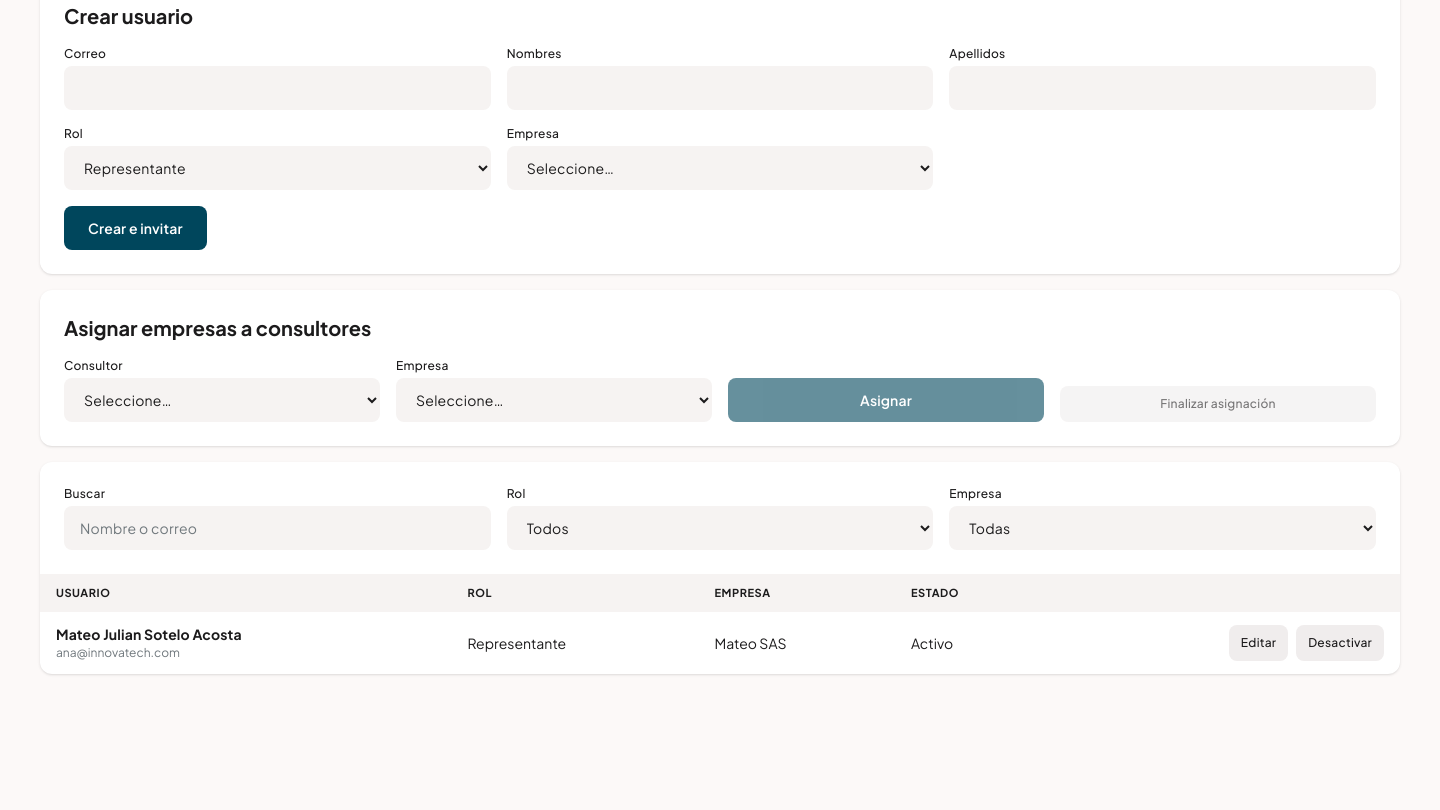
Test: Edición de usuarios › si el servidor rechaza el cambio, el formulario sigue abierto y muestra el motivo
(page scrolled)
Check: the text "Mateo Julian Sotelo Acosta" is shown, box [56,625,242,643]
What coordinates should you click on to do the following:
click the button "Editar"
I would click on:
 (1259, 643)
Its box is [1229,625,1288,661].
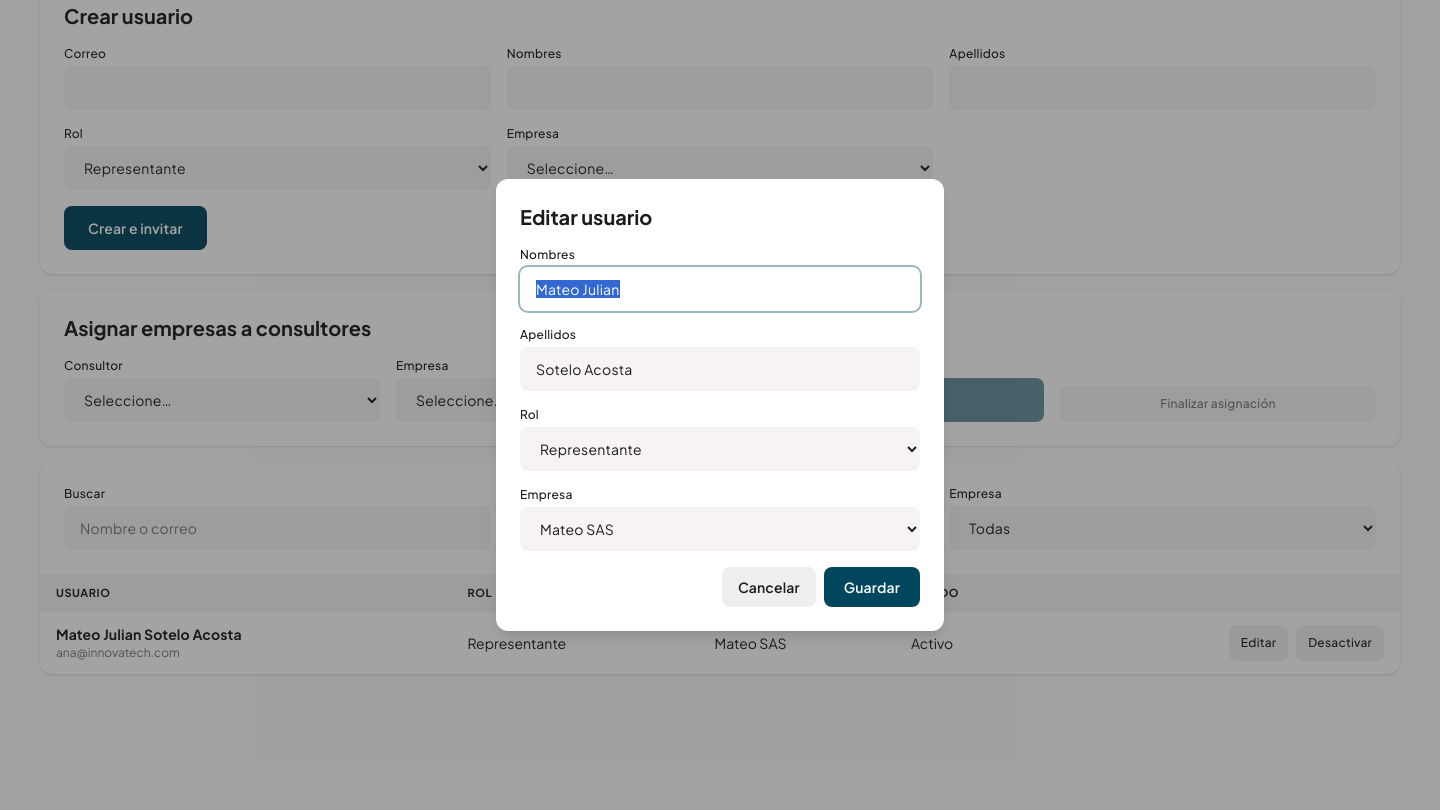
What coordinates should you click on to do the following:
click the button "Guardar"
I would click on:
 (872, 587)
Its box is [824,567,920,607].
(page scrolled)
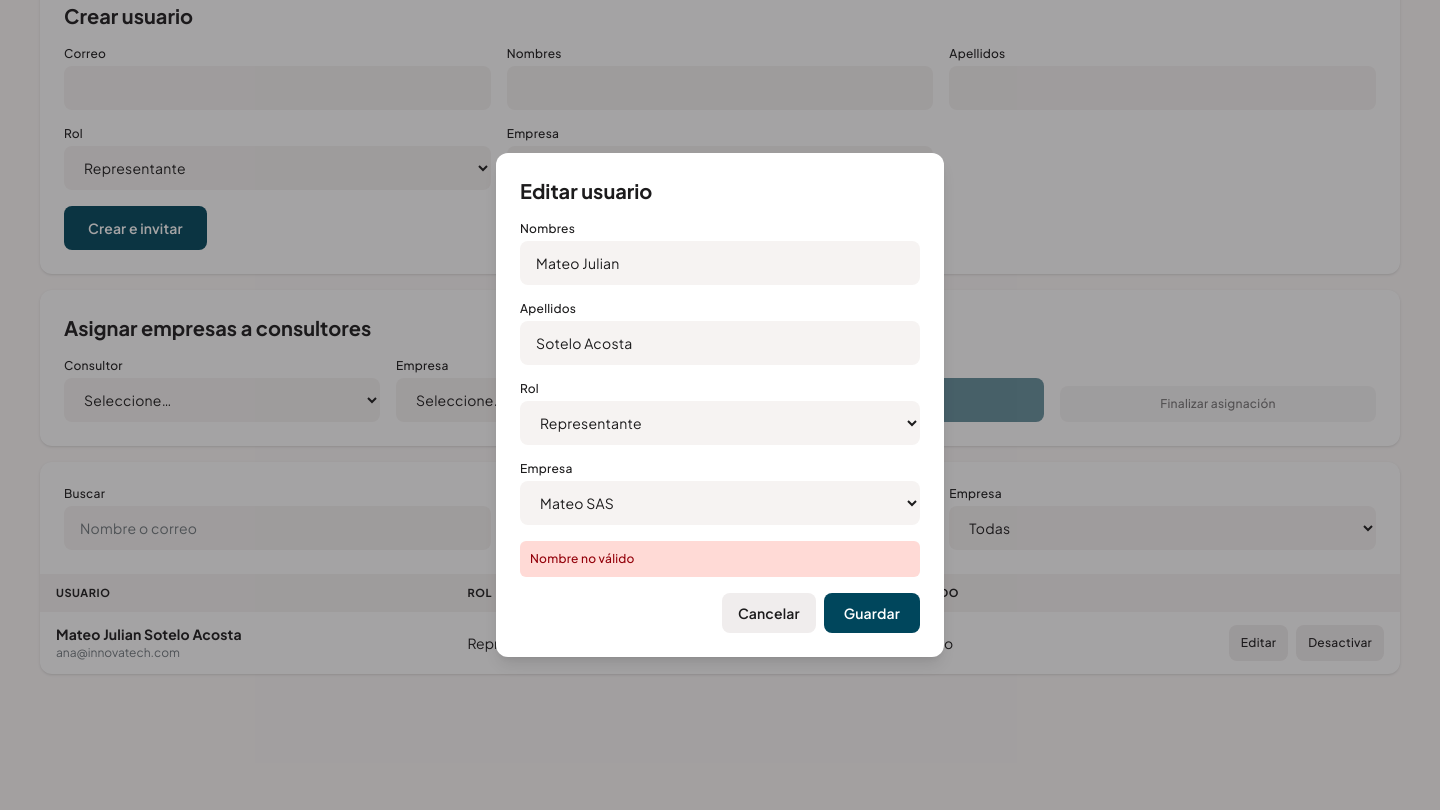
Check: the dialog is shown, box [496,153,944,657]
Check: the message reads "Nombre no válido", box [530,551,635,566]
